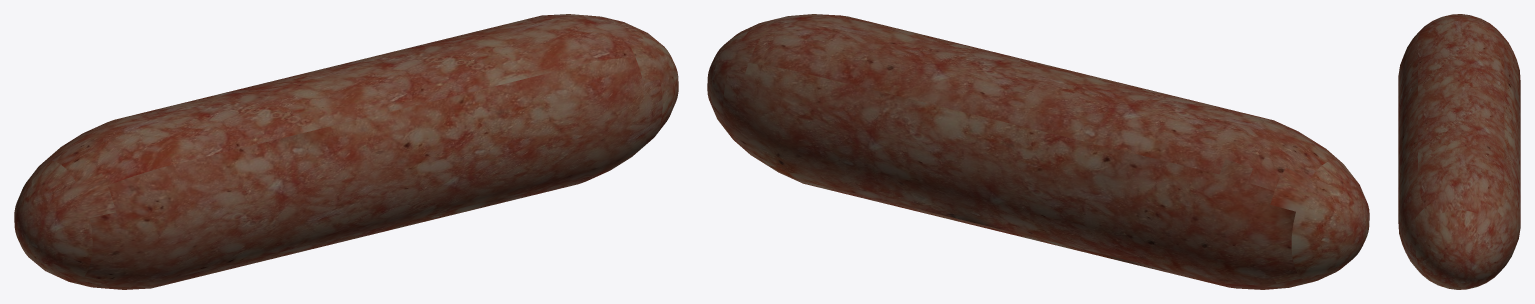
The model's file is salam tam.fbx.
3 renders of one model, left to right at view 1: azimuth 30°, elevation 25°; view 2: azimuth 150°, elevation 25°; view 3: azimuth 270°, elevation 25°, orthographic. The views are drawn at different scales.
Visible parts, largest first — view 1: Sphere.001; view 2: Sphere.001; view 3: Sphere.001.
Part boxes in pixels (x1,y1,x2,y2): Sphere.001: [14, 14, 678, 289]; Sphere.001: [707, 14, 1369, 289]; Sphere.001: [1398, 14, 1520, 289].
Bounding box in the file's own units: 808 × 186 × 186.
Materials: 1 (1 with a texture image).
